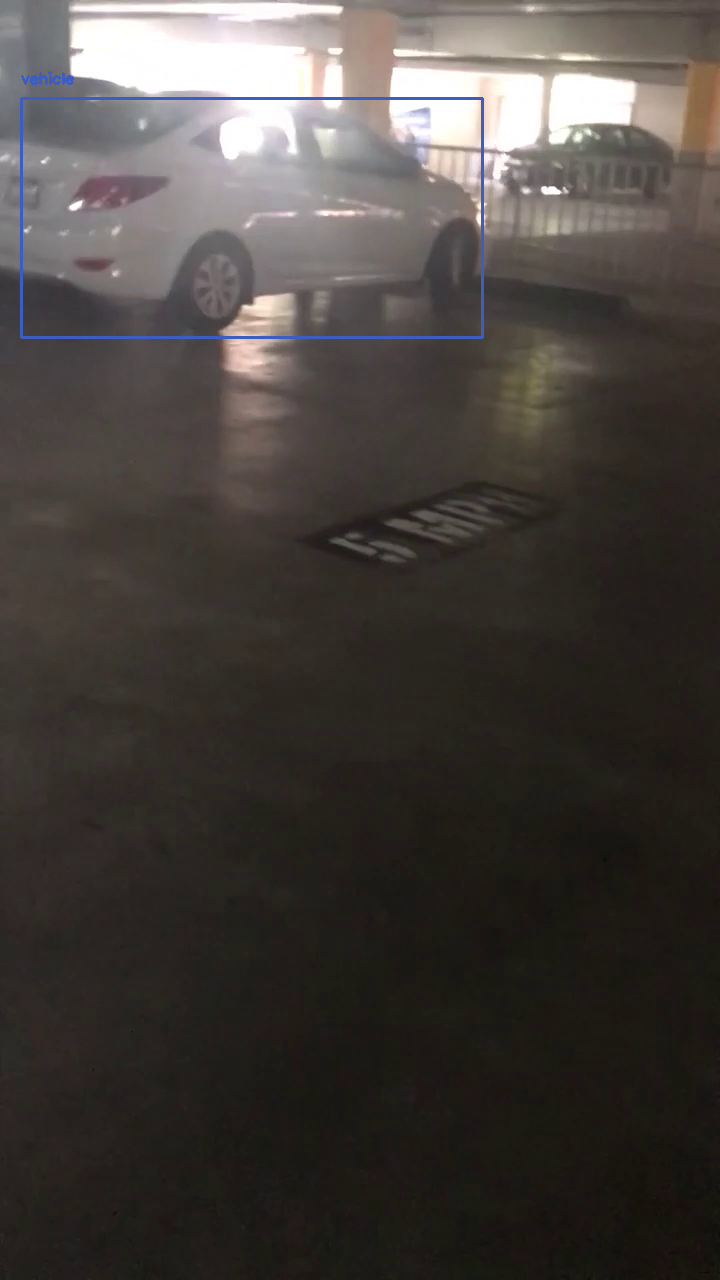vehicle: (21, 98, 482, 337)
